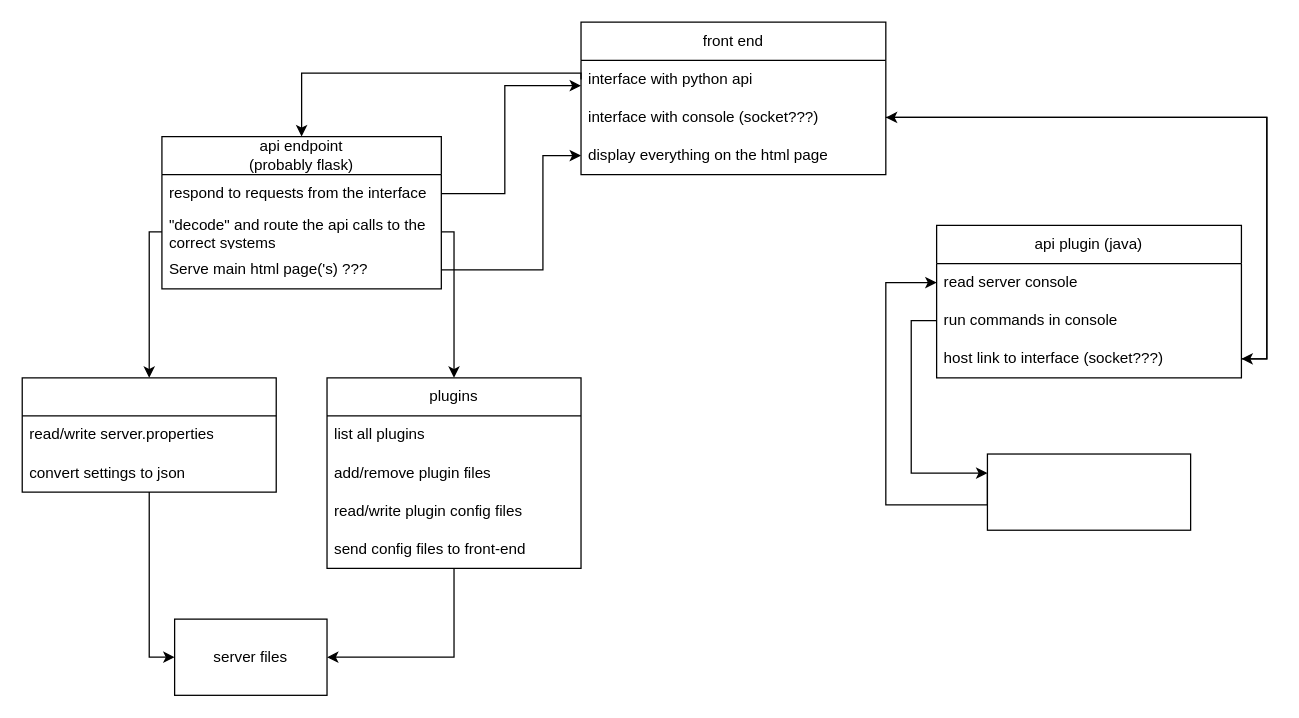
This 1299x718 diagram has some shape labels left out. Each missing label, with the box of its shape:
Server: (986, 453, 1191, 530)
server settings: (21, 377, 276, 492)
